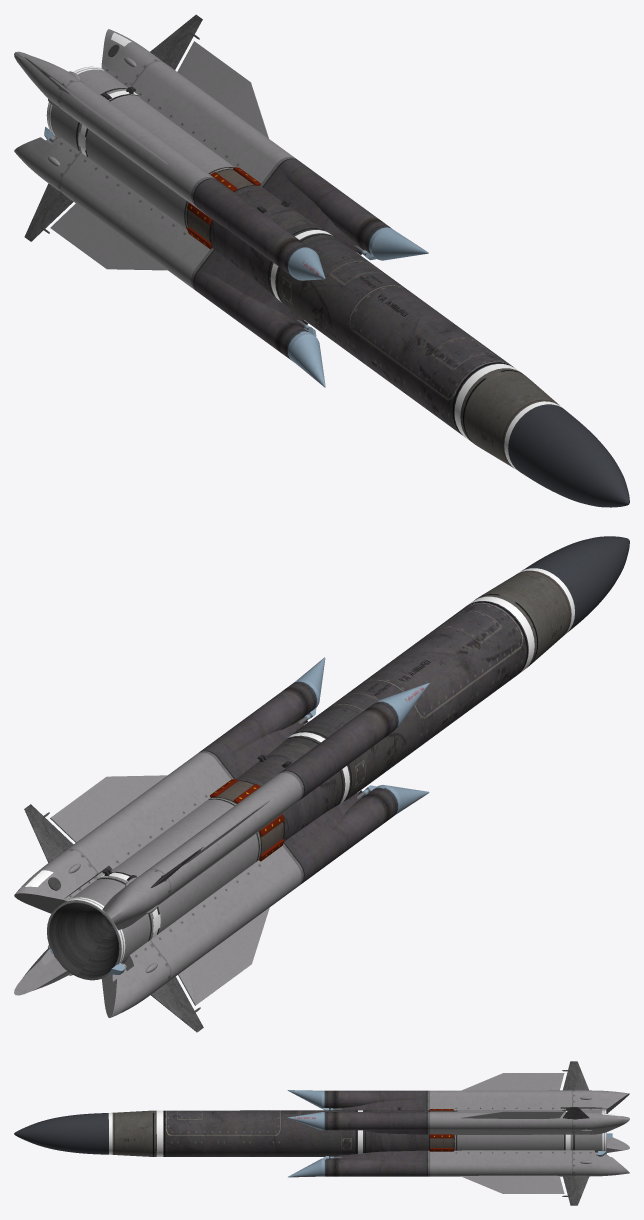
The model's file is Rocket2.fbx.
The picture shows the model from 3 angles, top to bottom: view 1: azimuth 30°, elevation 25°; view 2: azimuth 150°, elevation 25°; view 3: azimuth 270°, elevation 25°; orthographic projection. The views are drawn at different scales.
Parts seen in each view (by area): view 1: Rocket2; view 2: Rocket2; view 3: Rocket2.
Boxes of the visible parts, left/top/right/bottom form: Rocket2: left=14, top=14, right=629, bottom=507; Rocket2: left=14, top=536, right=629, bottom=1032; Rocket2: left=14, top=1061, right=629, bottom=1205.
Bounding box in the file's own units: 82.78 × 82.78 × 468.
Materials: 2 (1 with a texture image).
